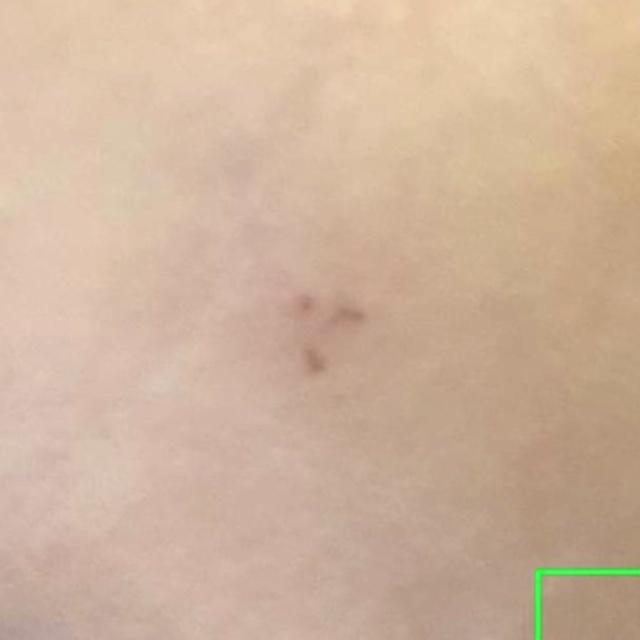Atopic Dermatitis: (537, 571, 639, 639)
